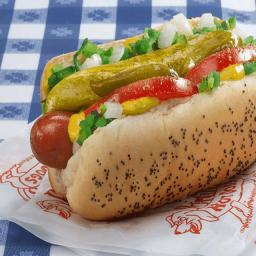hotdog: (28, 11, 256, 224)
